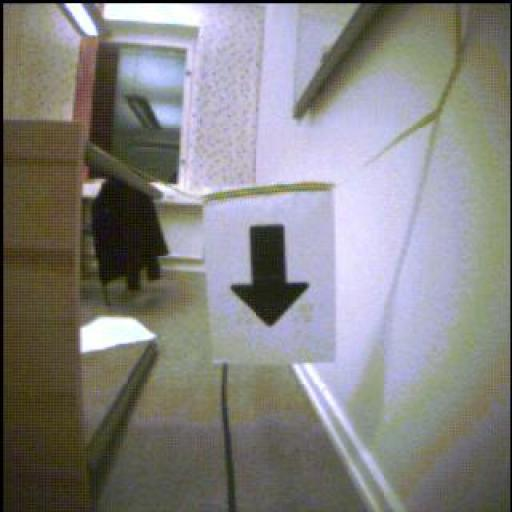arrow: (231, 225, 310, 326)
